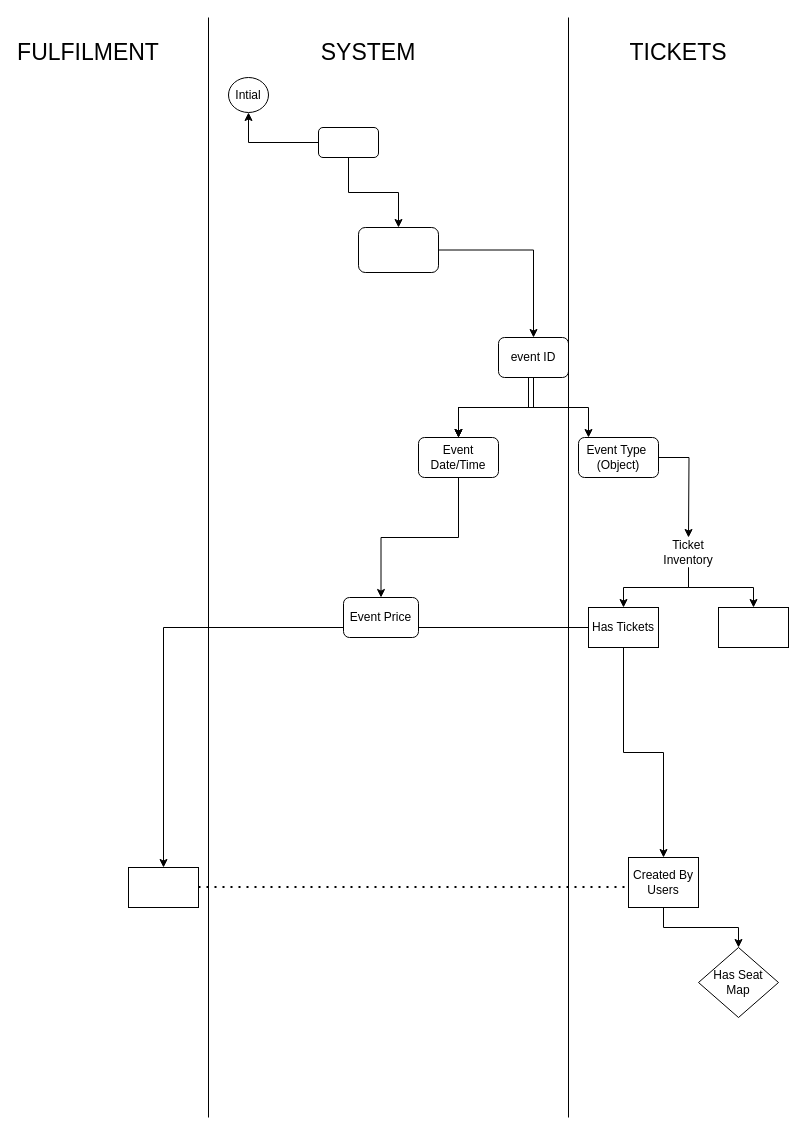
Some shapes in this 806 by 1136 pixel diagram are drawn without their labels. Here are the shapes that lost their labels. From the top down, the box of each, then its label:
(318, 126, 378, 158): Start
(358, 226, 438, 272): user sees event
(718, 606, 788, 648): No Tickets
(128, 866, 198, 908): Timer For Sales (Object)
